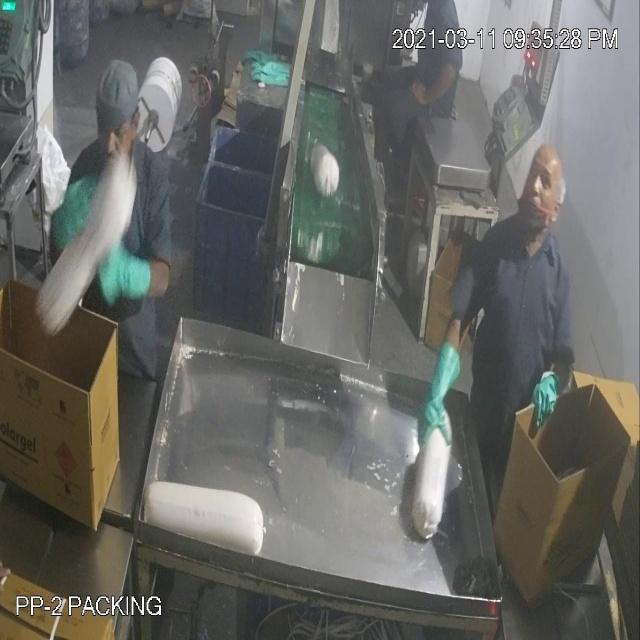Guantes: (412, 341, 459, 437), (516, 361, 564, 435)
Sin_guantes: (410, 53, 460, 119)
